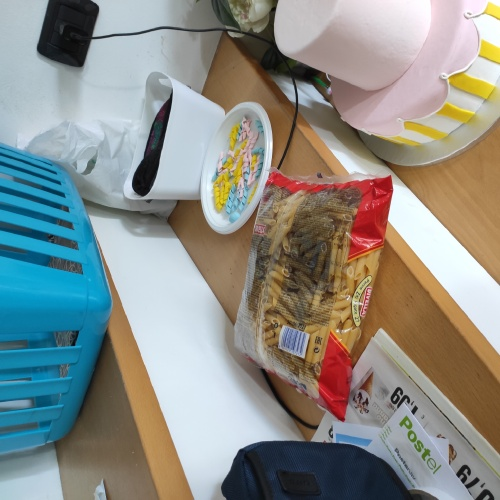pasta: (236, 177, 391, 384)
